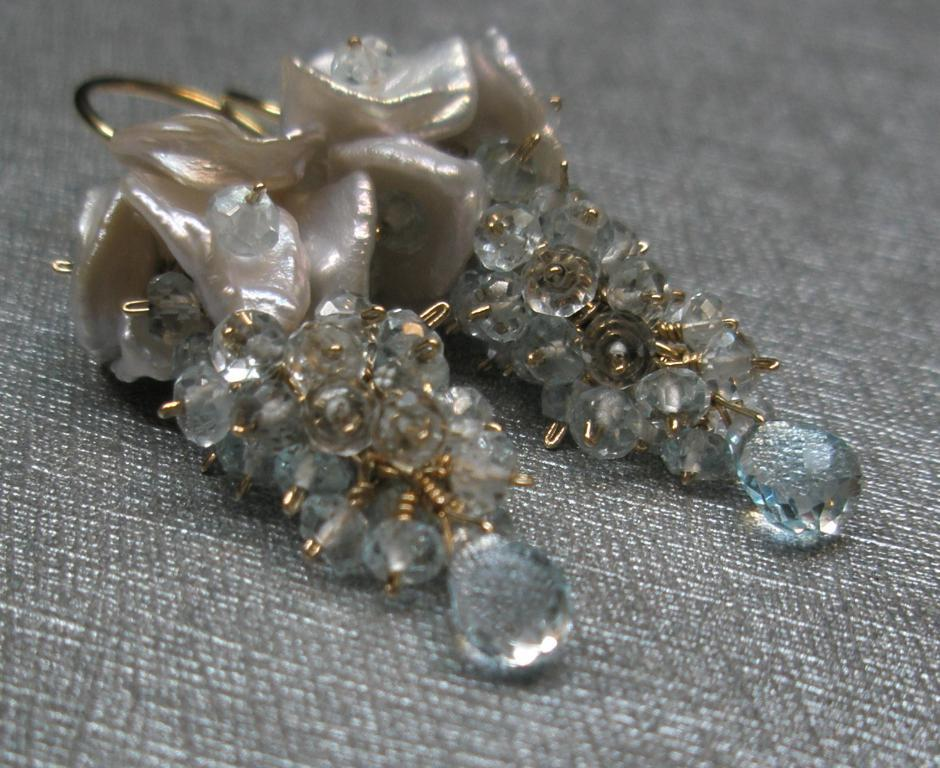earring: (49, 24, 861, 677)
